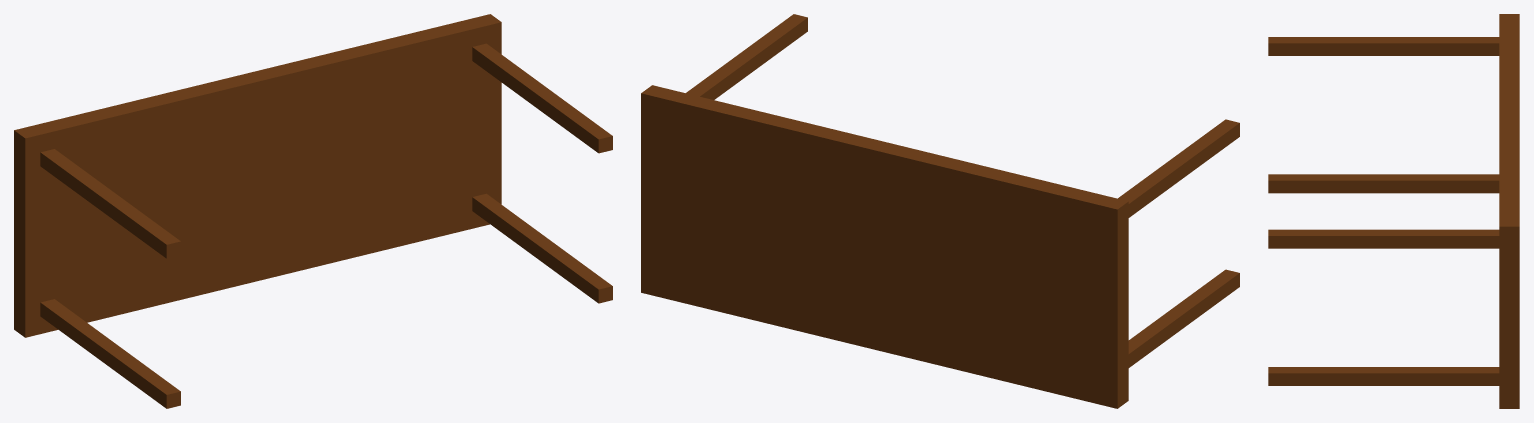
File: Wooden Desk.fbx
The picture shows the model from 3 angles, left to right: view 1: azimuth 30°, elevation 25°; view 2: azimuth 150°, elevation 25°; view 3: azimuth 270°, elevation 25°; orthographic projection. The views are drawn at different scales.
Visible parts, largest first — view 1: Wooden Desk; view 2: Wooden Desk; view 3: Wooden Desk.
Boxes of the visible parts, x1,y1,x2,y2 form: Wooden Desk: [14, 14, 612, 408]; Wooden Desk: [641, 14, 1239, 408]; Wooden Desk: [1268, 14, 1519, 408].
Size of the model in its own units: 200 by 80 by 100.
